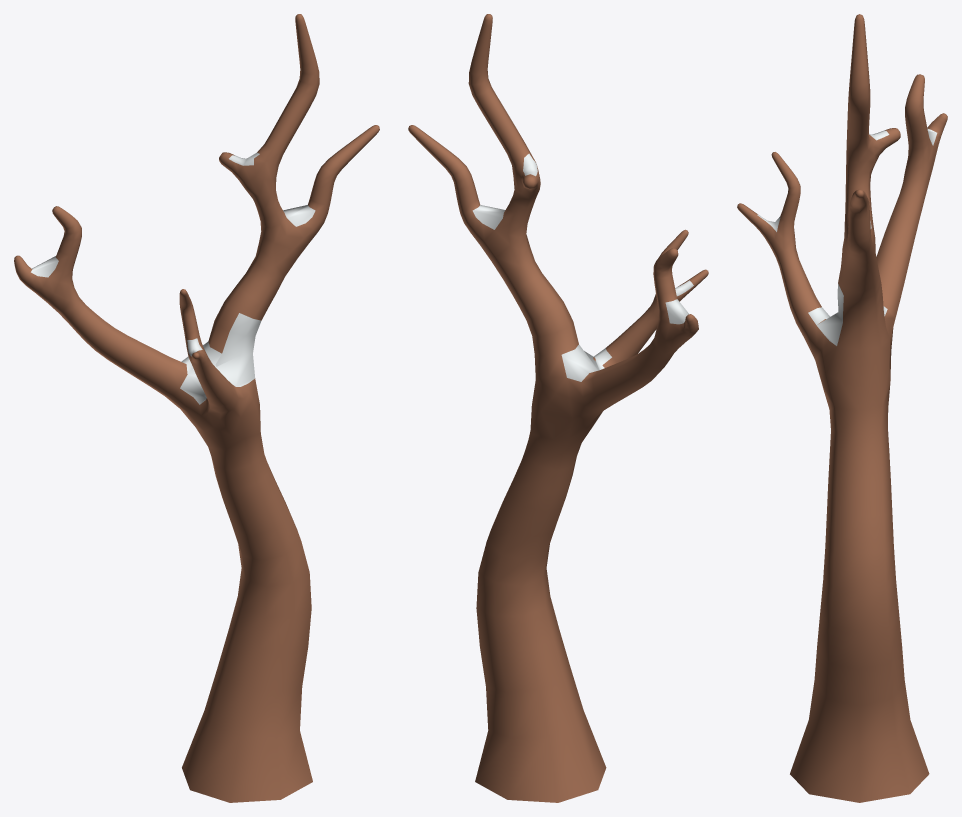
File: Tree Middle 2.fbx
3 views of the same model, side by side, from view 1: azimuth 30°, elevation 25°; view 2: azimuth 150°, elevation 25°; view 3: azimuth 270°, elevation 25° (orthographic). The views are drawn at different scales.
Parts seen in each view (by area): view 1: Tree Middle 2; view 2: Tree Middle 2; view 3: Tree Middle 2.
Part boxes in pixels (x1,y1,x2,y2): Tree Middle 2: [14, 14, 379, 802]; Tree Middle 2: [408, 14, 708, 802]; Tree Middle 2: [737, 14, 947, 802].
Bounding box in the file's own units: 1054 × 2317 × 562.
